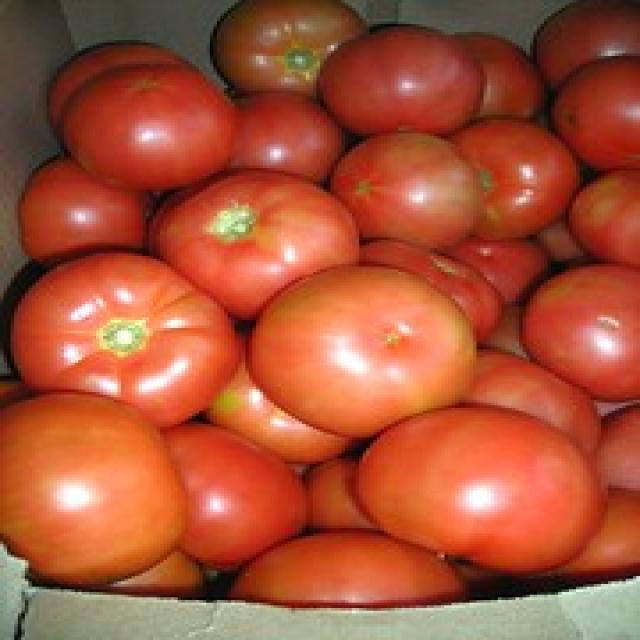Tomato: (352, 403, 609, 575), (8, 249, 248, 430), (245, 261, 480, 443), (142, 166, 360, 324), (51, 61, 256, 189), (309, 22, 485, 152), (325, 127, 487, 250)
